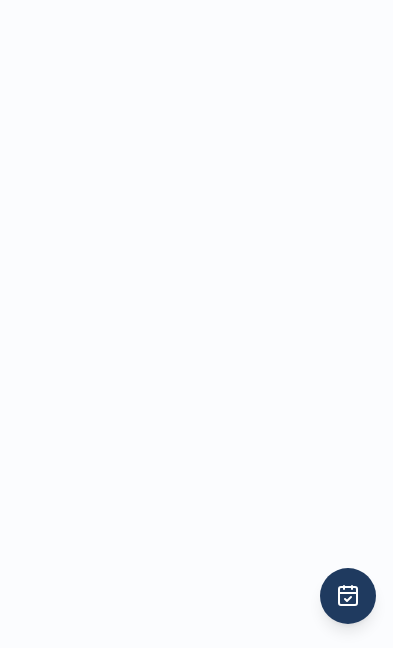
Test: Floating assistant widget › shows a friendly message for a provider failure and no retry for a 4xx
Click the button named "Open EventHub assistant".
click(348, 596)  # box x1=320 y1=568 x2=376 y2=624
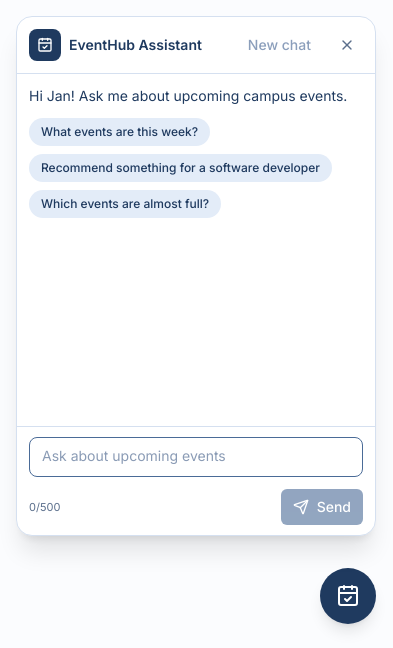
Click the button "What events are this week?".
click(120, 132)  # box x1=29 y1=118 x2=210 y2=146
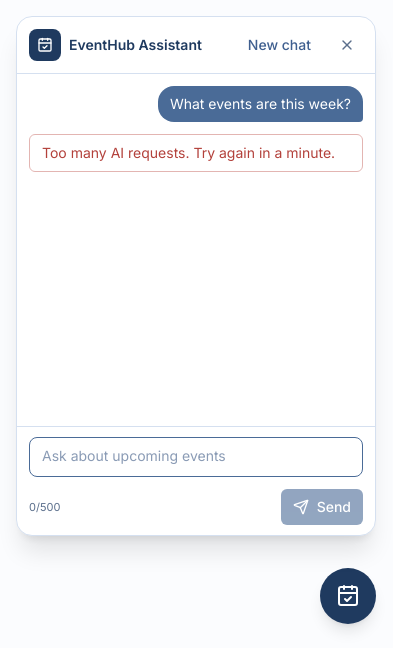
Expected: the text "Too many AI requests. Try again in a minute." is shown, x1=42 y1=143 x2=350 y2=163
